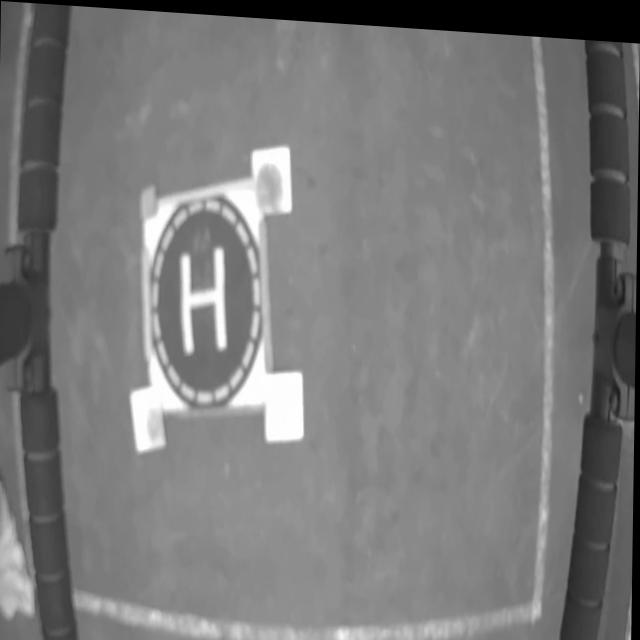Helipad: (181, 240, 228, 352)
